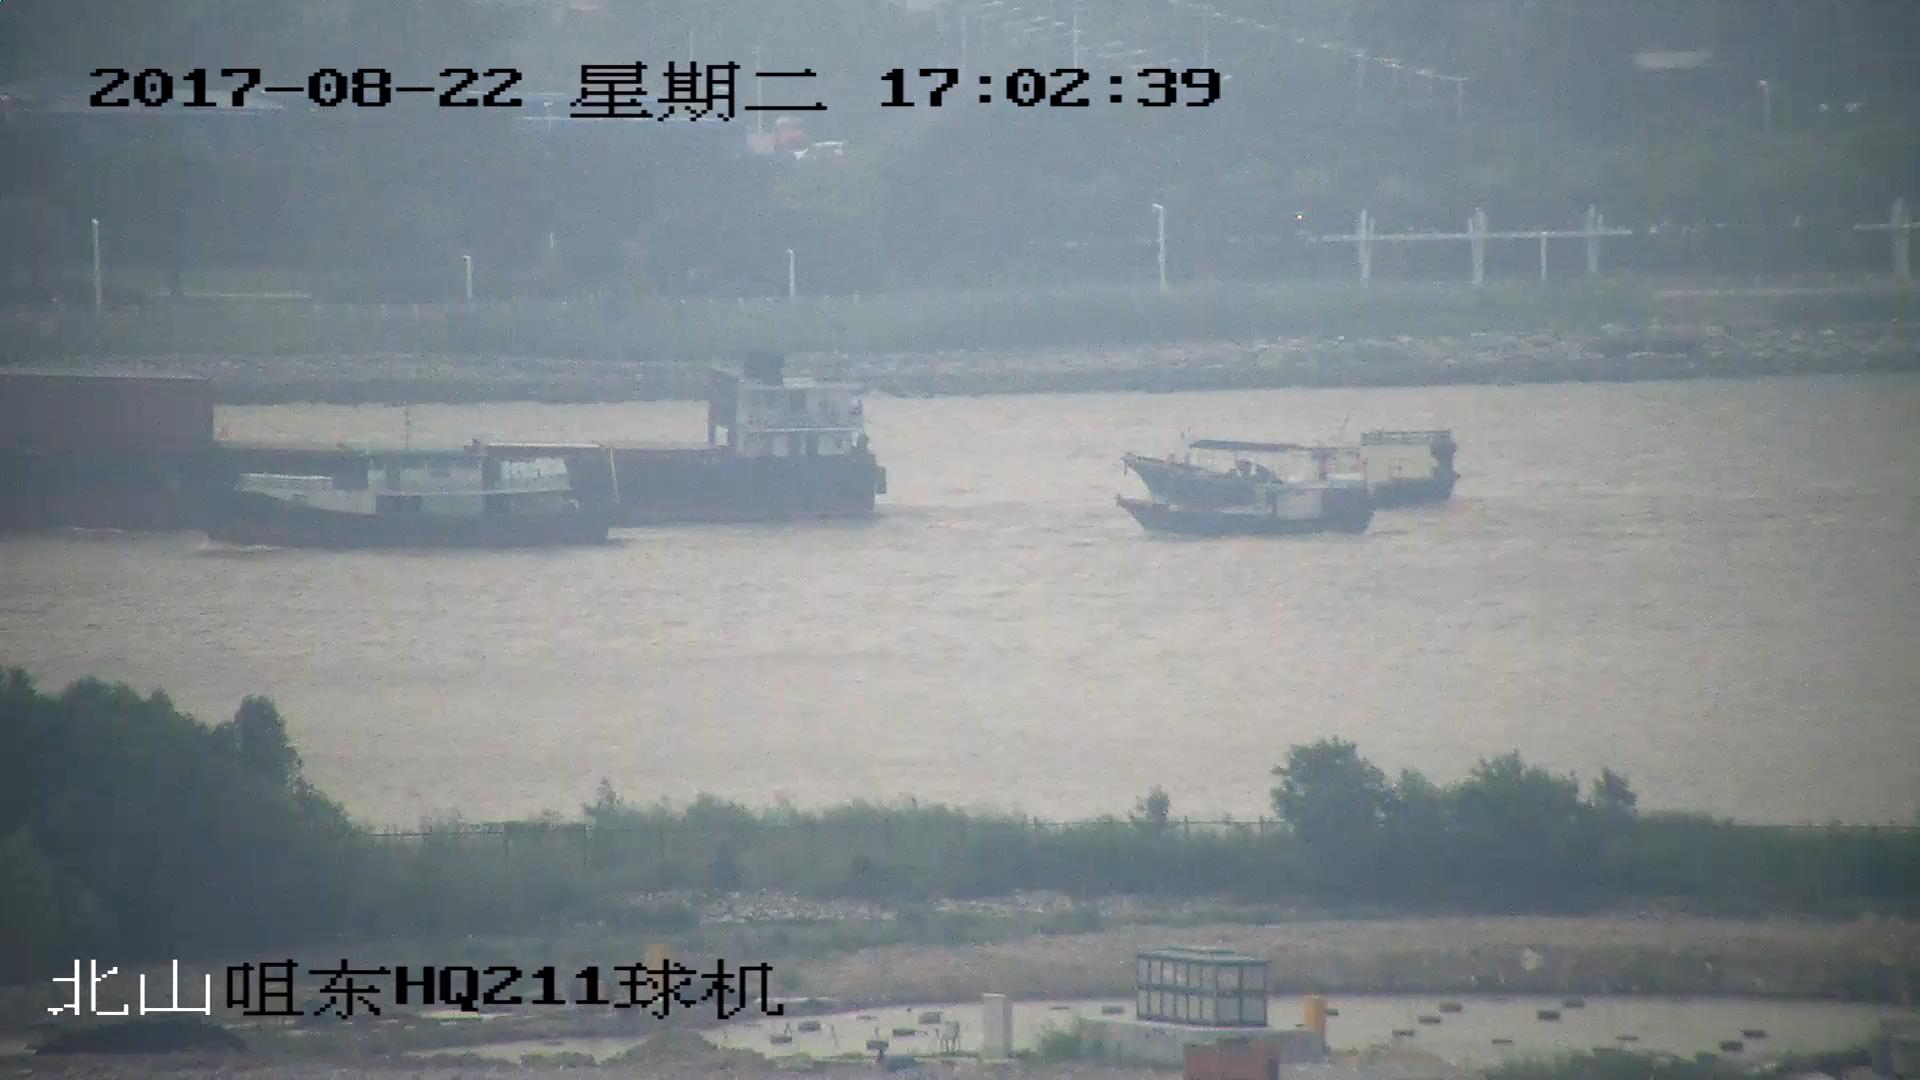fishing boat: (219, 437, 612, 550), (1131, 425, 1461, 505), (1121, 450, 1368, 539)
general cargo ship: (1, 359, 882, 533)
